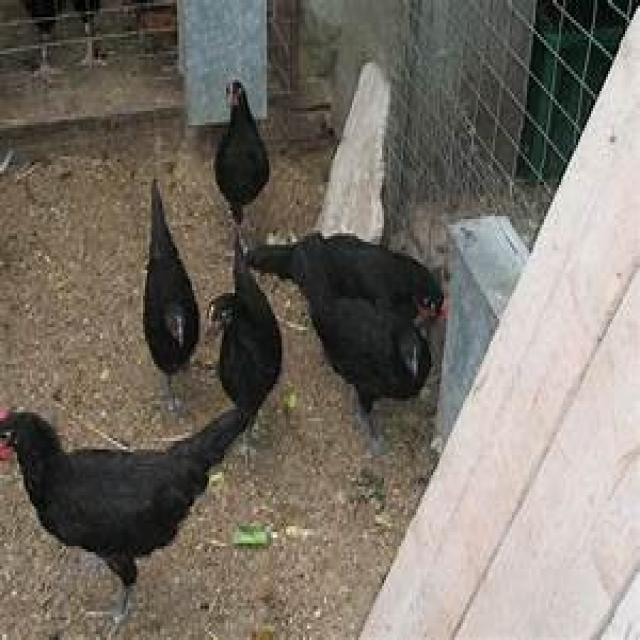animal: (0, 396, 252, 638), (241, 200, 475, 346), (283, 249, 434, 442), (202, 231, 282, 464), (141, 176, 200, 412), (211, 77, 269, 239)
